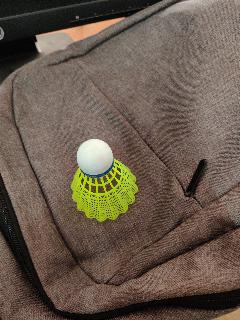shuttlecock: (71, 138, 137, 220)
